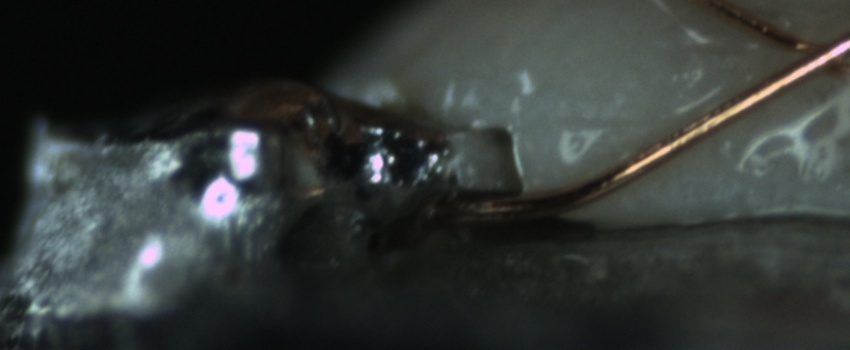CL: (767, 19, 847, 82)
DL: (545, 93, 681, 153)
